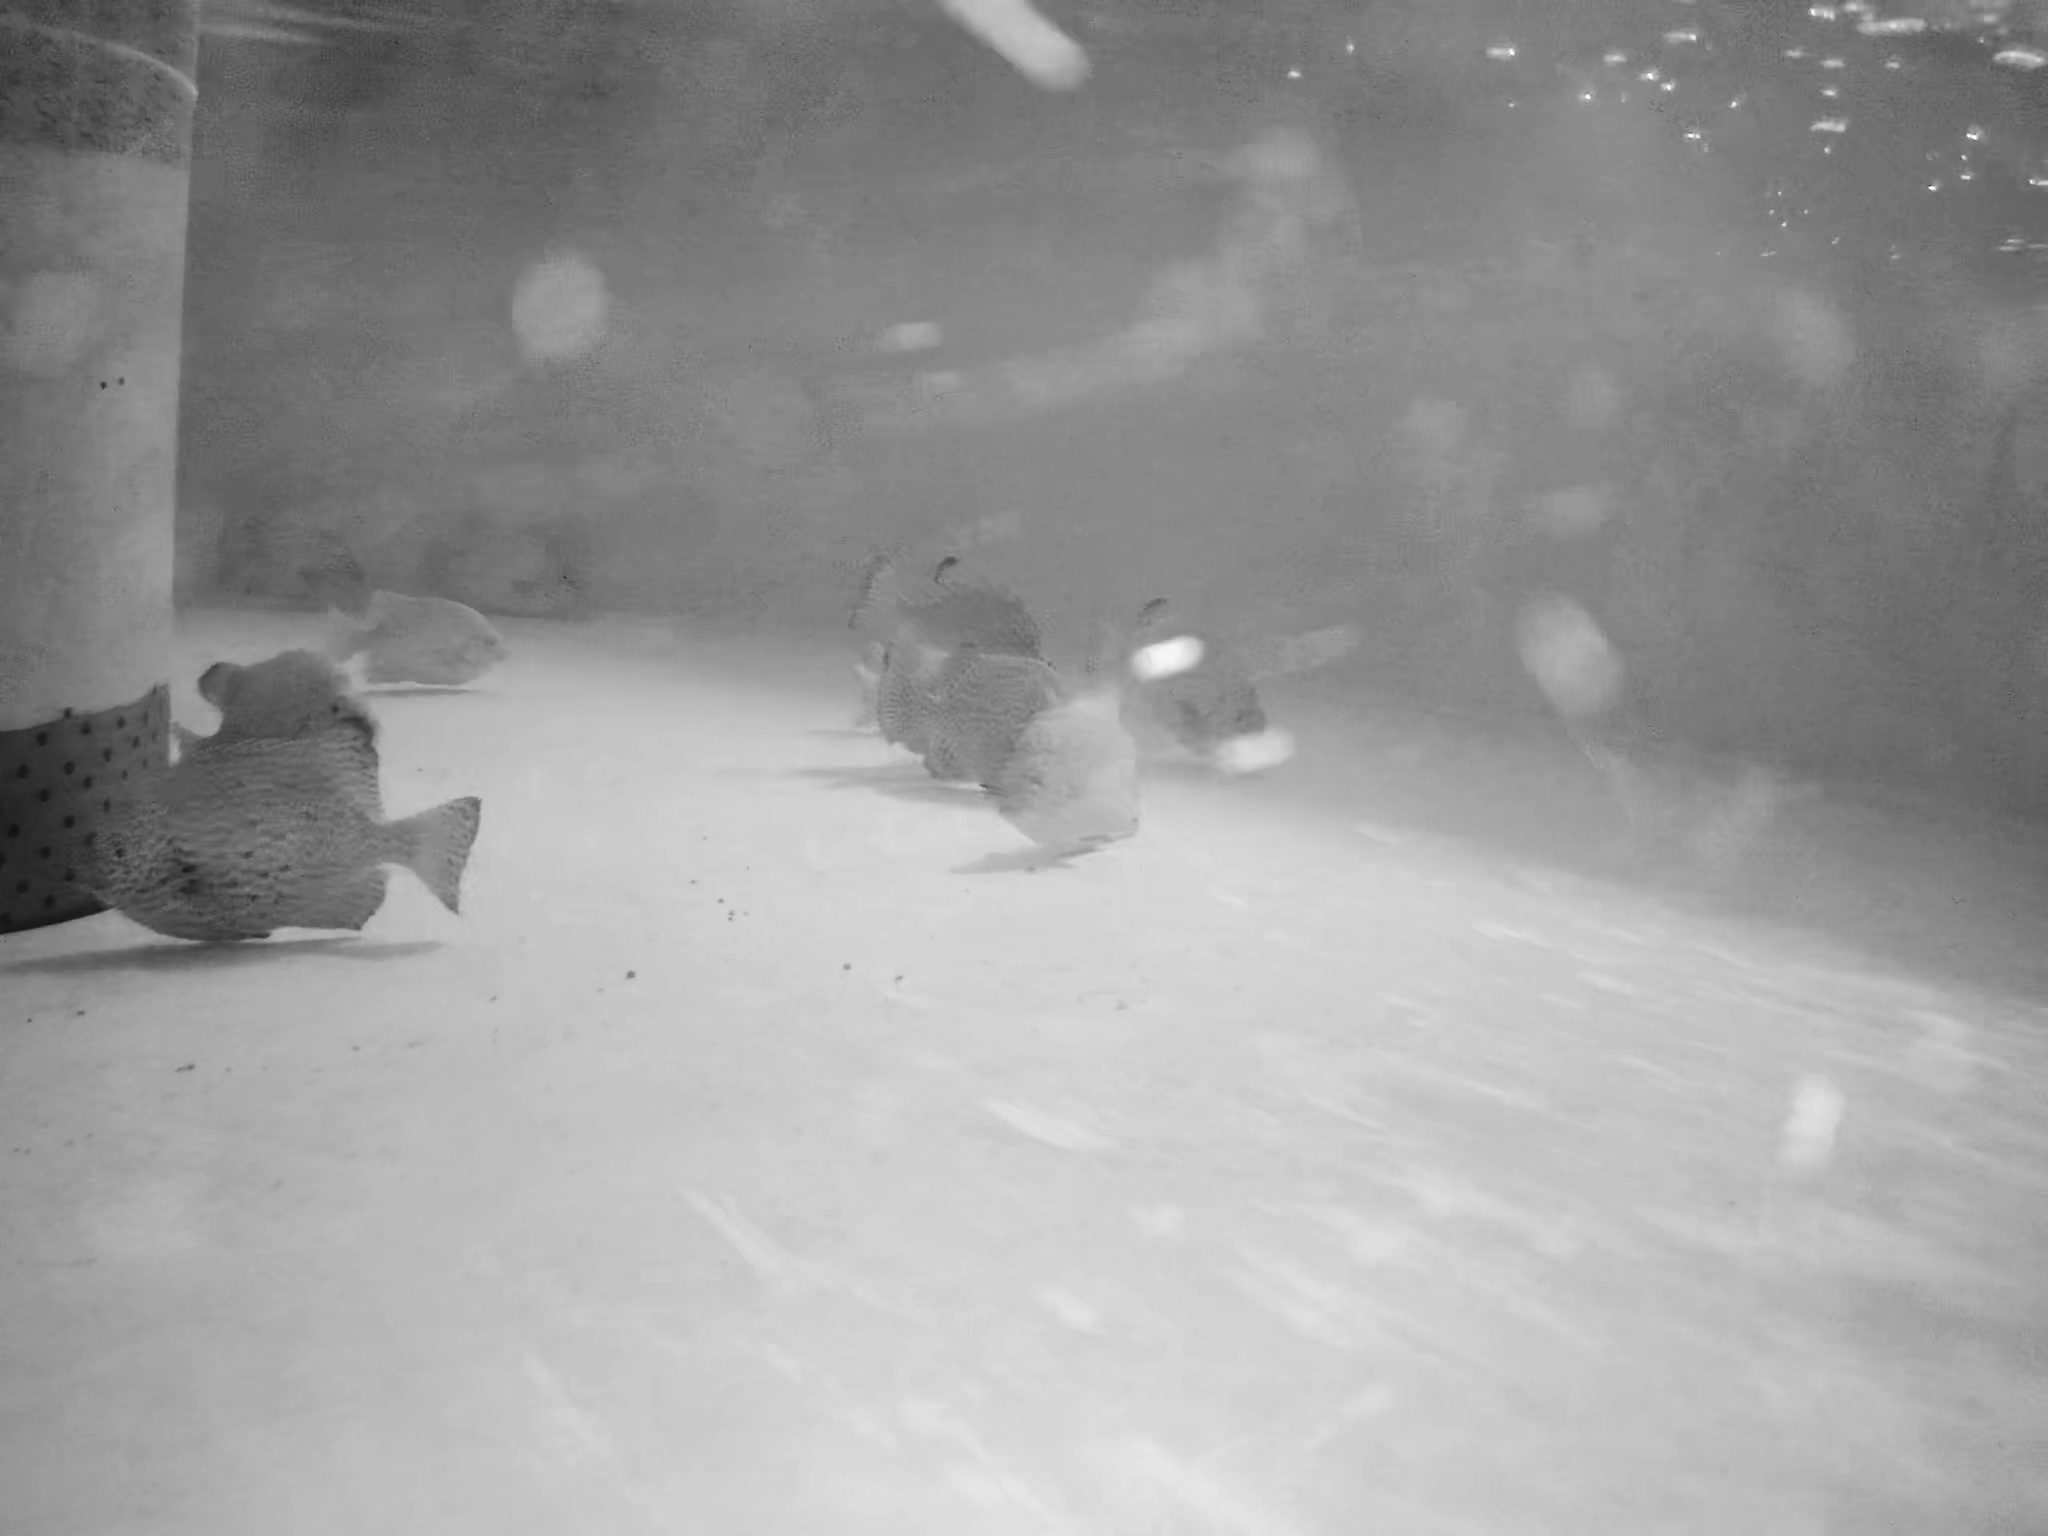fish: (106, 752, 495, 942), (1093, 591, 1277, 763), (858, 550, 1051, 695), (877, 645, 1068, 779), (194, 652, 379, 773), (992, 679, 1138, 829), (337, 582, 502, 691), (208, 513, 369, 608), (437, 523, 589, 616)
